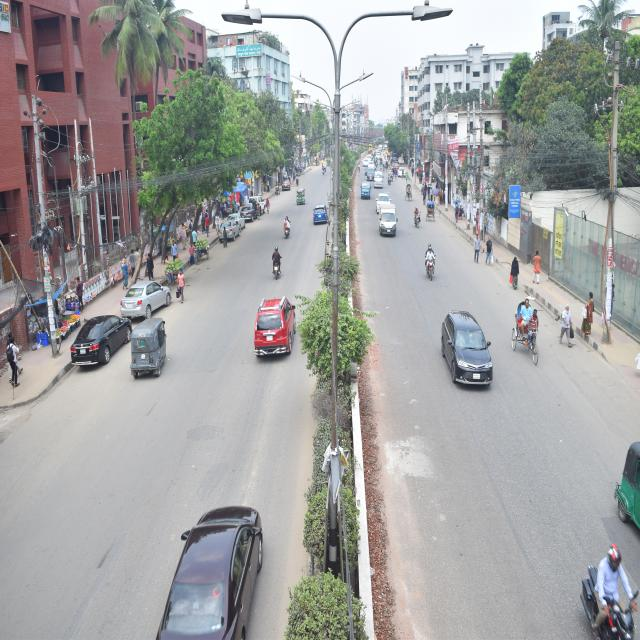car: (167, 471, 269, 640), (414, 299, 503, 405), (60, 312, 132, 376), (111, 273, 178, 314), (308, 200, 333, 232)
motorbike: (546, 527, 640, 640), (419, 241, 451, 286), (256, 248, 288, 273), (409, 207, 427, 235), (275, 214, 300, 232)
pickup-van: (244, 295, 304, 354)
